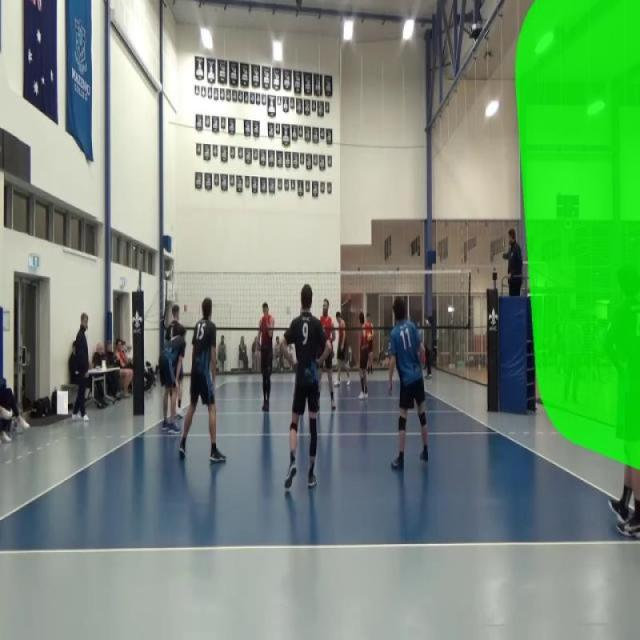volleyball: (368, 332, 372, 340)
